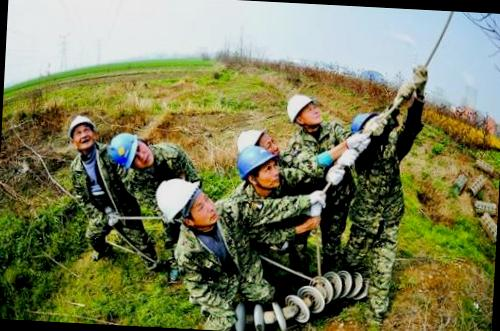person: (128, 176, 314, 317), (338, 102, 420, 316), (221, 140, 314, 303), (283, 88, 350, 293), (61, 111, 151, 260), (106, 124, 207, 196)
